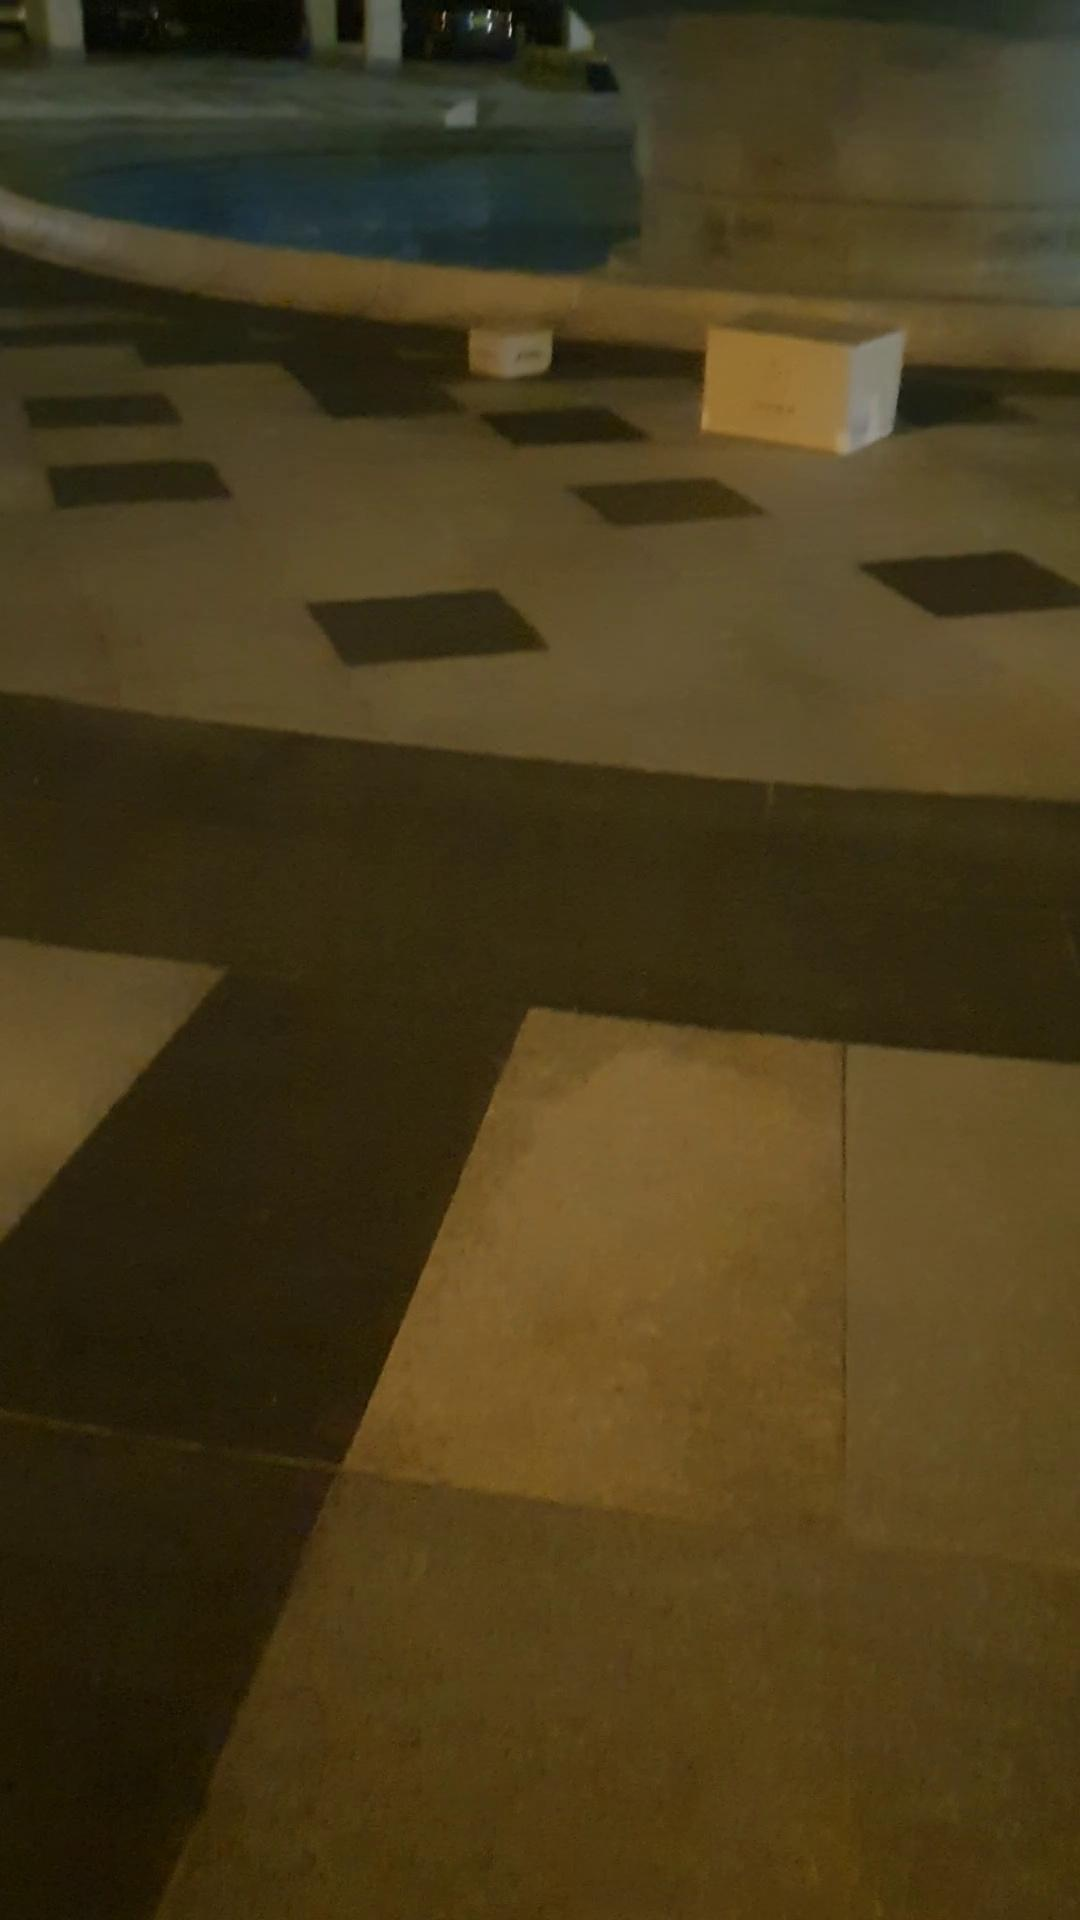Box: (673, 298, 924, 469), (462, 315, 558, 382)
